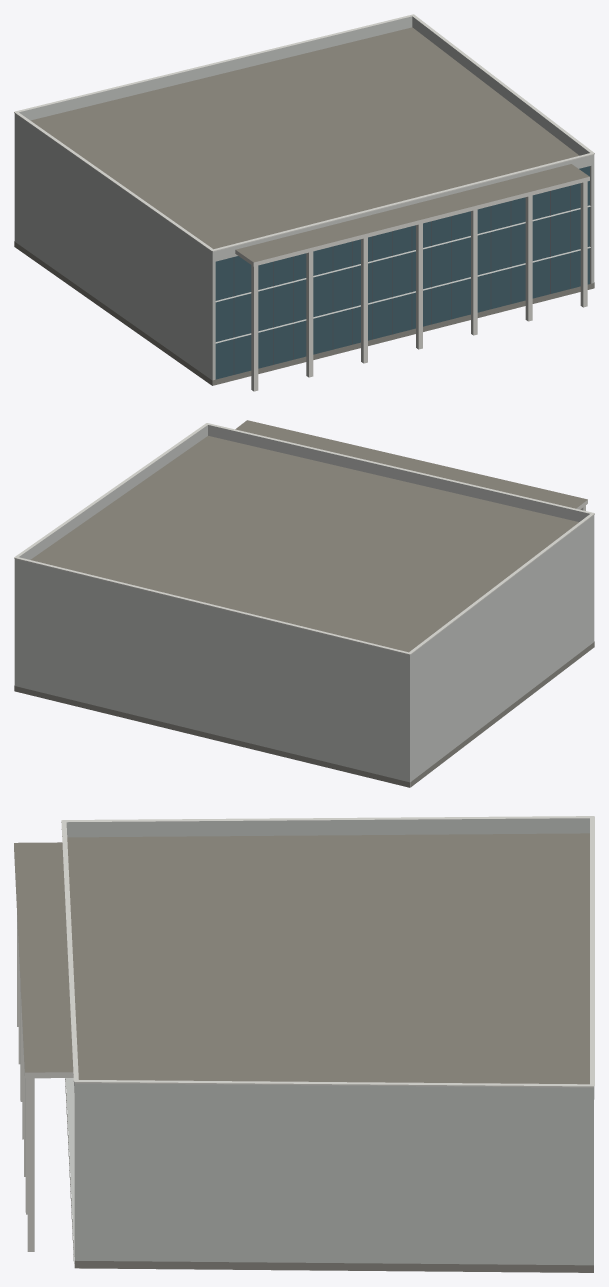
3 views of the same model, one above another, from view 1: azimuth 30°, elevation 25°; view 2: azimuth 150°, elevation 25°; view 3: azimuth 270°, elevation 25° (orthographic). The views are drawn at different scales.
Visible parts, largest first — view 1: concertHall__roof, concertHall__glass, concertHall__wall, concertHall__parapet, concertHall__column, concertHall__trim, concertHall__base, concertHall__frame; view 2: concertHall__wall, concertHall__roof, concertHall__parapet, concertHall__trim, concertHall__base; view 3: concertHall__roof, concertHall__wall, concertHall__parapet, concertHall__trim, concertHall__base, concertHall__column.
Part boxes in pixels (x1,y1,x2,y2): concertHall__roof: (30, 27, 589, 262); concertHall__glass: (215, 166, 589, 379); concertHall__wall: (14, 123, 594, 385); concertHall__parapet: (14, 16, 594, 261); concertHall__column: (251, 181, 587, 391); concertHall__trim: (14, 14, 594, 266); concertHall__base: (14, 241, 594, 385); concertHall__frame: (233, 186, 570, 374); concertHall__wall: (14, 524, 594, 787); concertHall__roof: (30, 420, 587, 652); concertHall__parapet: (14, 425, 594, 664); concertHall__trim: (14, 423, 594, 654); concertHall__base: (14, 641, 594, 787); concertHall__roof: (14, 833, 589, 1272); concertHall__wall: (65, 1078, 593, 1265); concertHall__parapet: (66, 818, 594, 1101); concertHall__trim: (14, 816, 594, 1087); concertHall__base: (65, 1078, 593, 1272); concertHall__column: (17, 915, 34, 1251).
Size of the model in its own units: 45.68 by 14.72 by 41.48.
